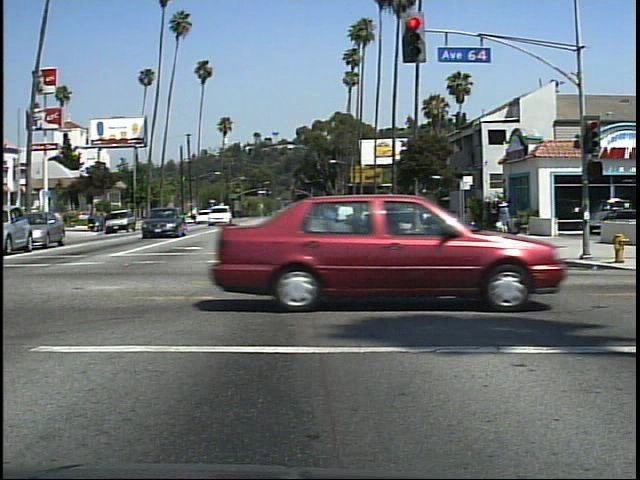person: (492, 195, 518, 242)
